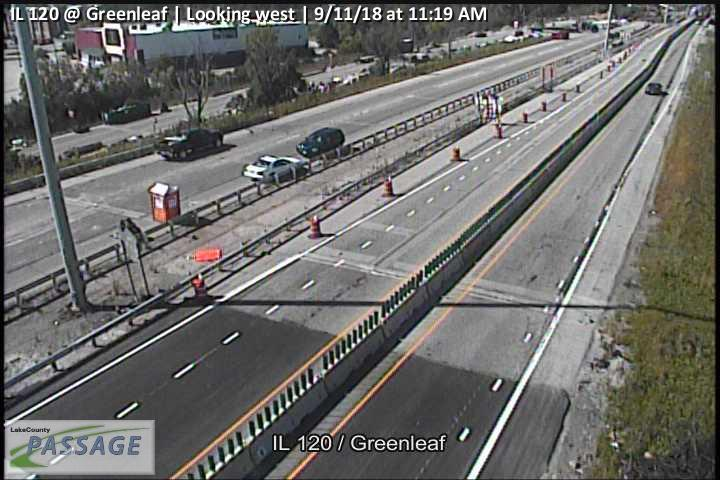SUV: (296, 127, 345, 159)
Sedan: (241, 153, 303, 183), (645, 82, 663, 95)
Truck: (158, 126, 224, 161)
